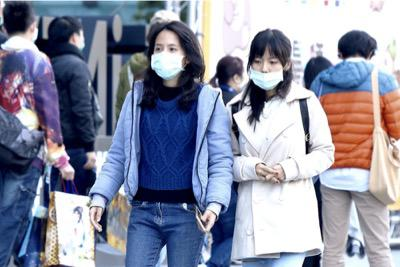mask_weared_incorrect: (249, 54, 286, 91)
with_mask: (149, 40, 184, 82)
